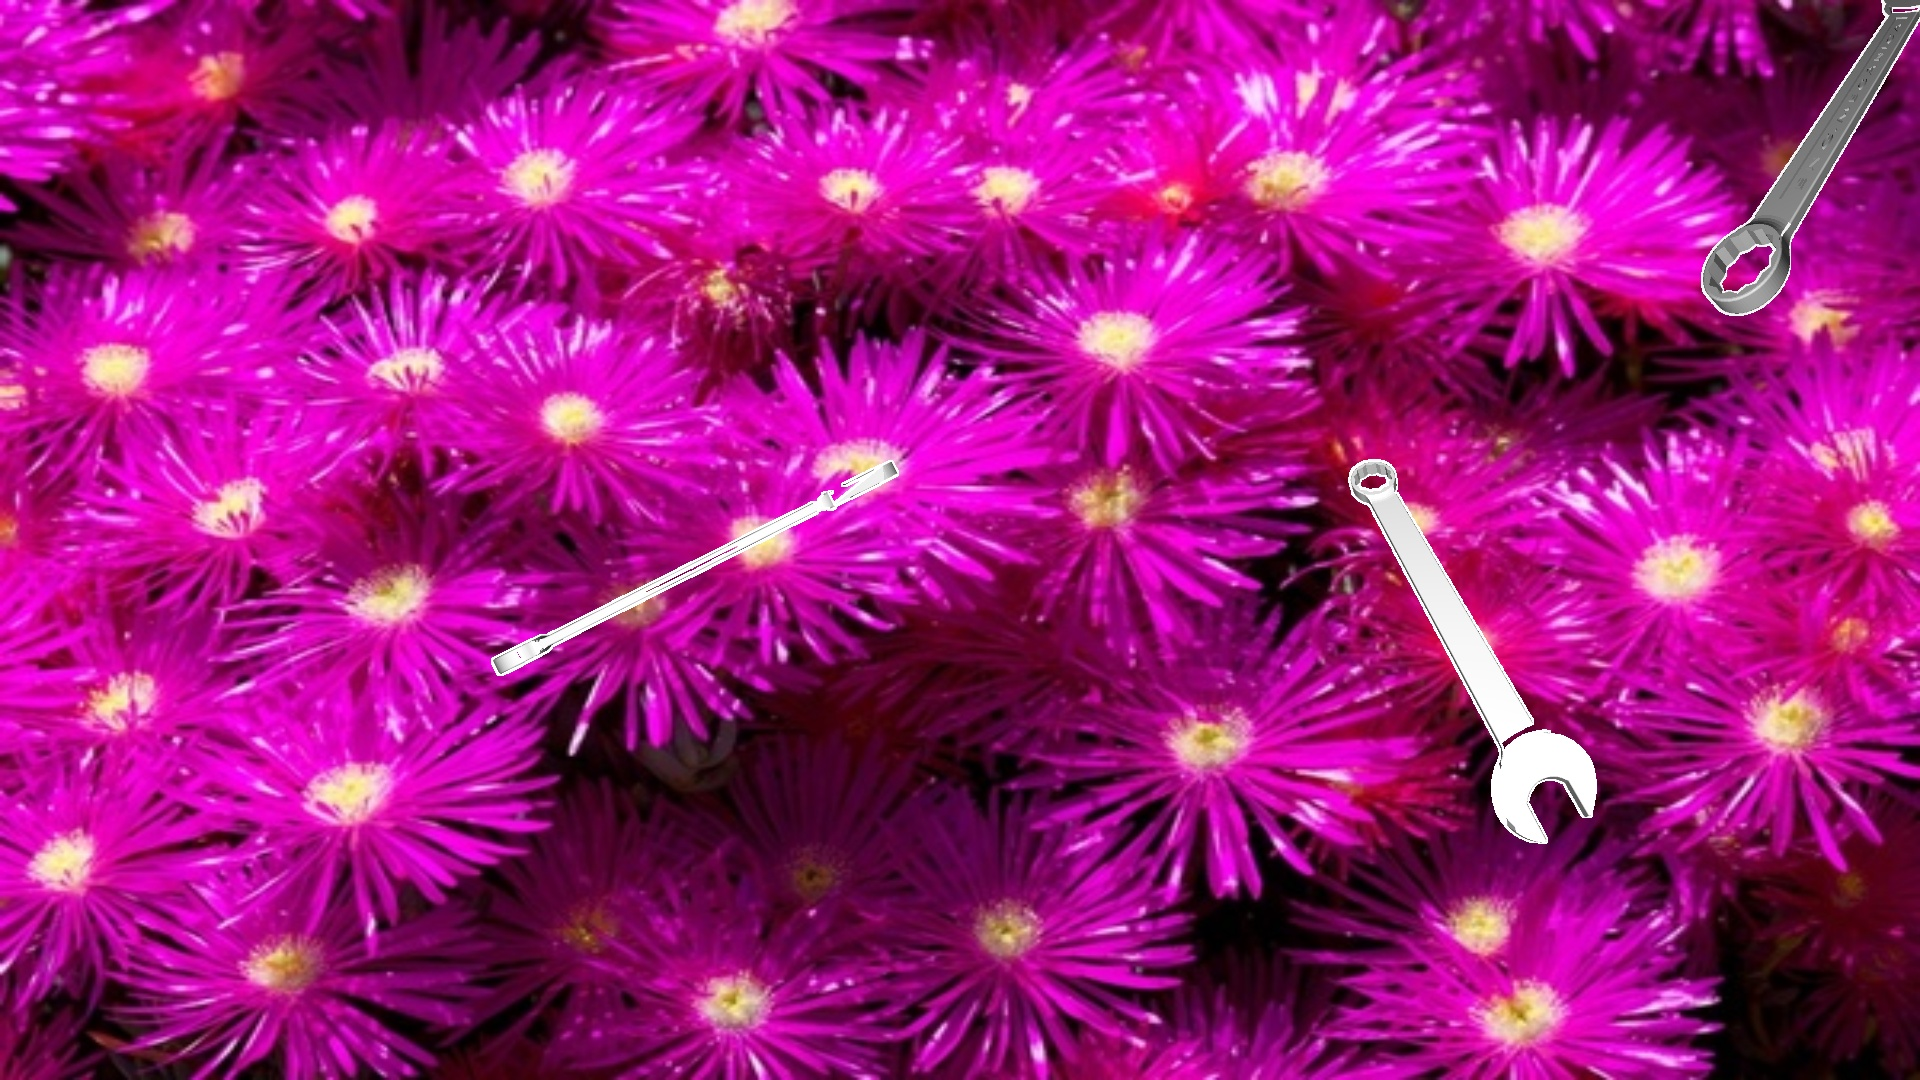Mixed Key: (1348, 459, 1596, 843), (491, 460, 898, 675), (1701, 0, 1919, 315)
